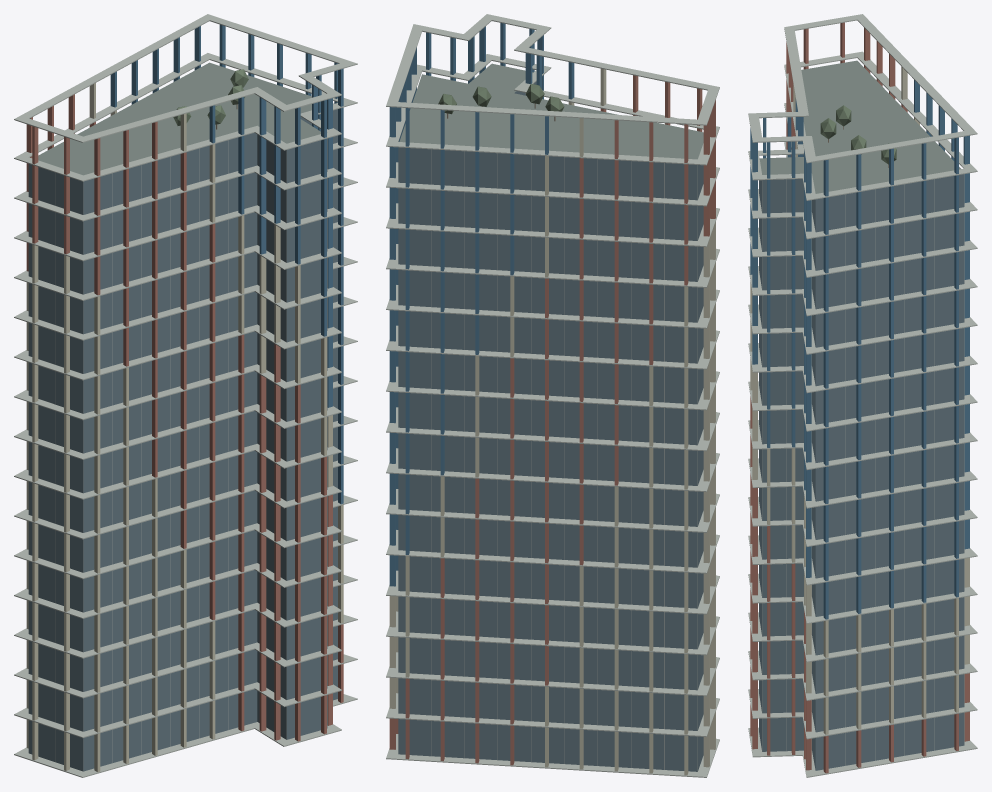
Rendered from tour-la-marseillaise-far.glb.
3 renders of one model, left to right at view 1: azimuth 30°, elevation 25°; view 2: azimuth 150°, elevation 25°; view 3: azimuth 270°, elevation 25°, orthographic. The views are drawn at different scales.
Parts seen in each view (by area): view 1: tour-la-marseillaise-0-glass, tour-la-marseillaise-0-frame, tour-la-marseillaise-0-red, tour-la-marseillaise-0-cream, tour-la-marseillaise-0-blue, tour-la-marseillaise-0-roof, tour-la-marseillaise-0-leaf; view 2: tour-la-marseillaise-0-glass, tour-la-marseillaise-0-frame, tour-la-marseillaise-0-cream, tour-la-marseillaise-0-red, tour-la-marseillaise-0-roof, tour-la-marseillaise-0-blue, tour-la-marseillaise-0-leaf; view 3: tour-la-marseillaise-0-glass, tour-la-marseillaise-0-frame, tour-la-marseillaise-0-blue, tour-la-marseillaise-0-roof, tour-la-marseillaise-0-red, tour-la-marseillaise-0-cream, tour-la-marseillaise-0-leaf.
Part boxes in pixels (x1=…): tour-la-marseillaise-0-glass: x1=28, y1=109, x2=337, y2=771; tour-la-marseillaise-0-frame: x1=14, y1=14, x2=357, y2=777; tour-la-marseillaise-0-red: x1=26, y1=94, x2=343, y2=741; tour-la-marseillaise-0-cream: x1=26, y1=83, x2=343, y2=772; tour-la-marseillaise-0-blue: x1=110, y1=24, x2=343, y2=504; tour-la-marseillaise-0-roof: x1=38, y1=62, x2=333, y2=175; tour-la-marseillaise-0-leaf: x1=173, y1=69, x2=248, y2=125; tour-la-marseillaise-0-glass: x1=398, y1=81, x2=703, y2=771; tour-la-marseillaise-0-frame: x1=386, y1=14, x2=719, y2=777; tour-la-marseillaise-0-cream: x1=389, y1=68, x2=715, y2=775; tour-la-marseillaise-0-red: x1=389, y1=75, x2=715, y2=765; tour-la-marseillaise-0-roof: x1=399, y1=63, x2=703, y2=159; tour-la-marseillaise-0-blue: x1=389, y1=23, x2=574, y2=586; tour-la-marseillaise-0-leaf: x1=438, y1=84, x2=564, y2=114; tour-la-marseillaise-0-glass: x1=759, y1=154, x2=964, y2=770; tour-la-marseillaise-0-frame: x1=748, y1=14, x2=977, y2=777; tour-la-marseillaise-0-blue: x1=750, y1=80, x2=969, y2=619; tour-la-marseillaise-0-roof: x1=759, y1=60, x2=960, y2=193; tour-la-marseillaise-0-red: x1=750, y1=22, x2=969, y2=773; tour-la-marseillaise-0-cream: x1=750, y1=66, x2=969, y2=734; tour-la-marseillaise-0-leaf: x1=820, y1=105, x2=896, y2=164.
Size of the model in its own units: 69.89 by 135 by 45.59.
